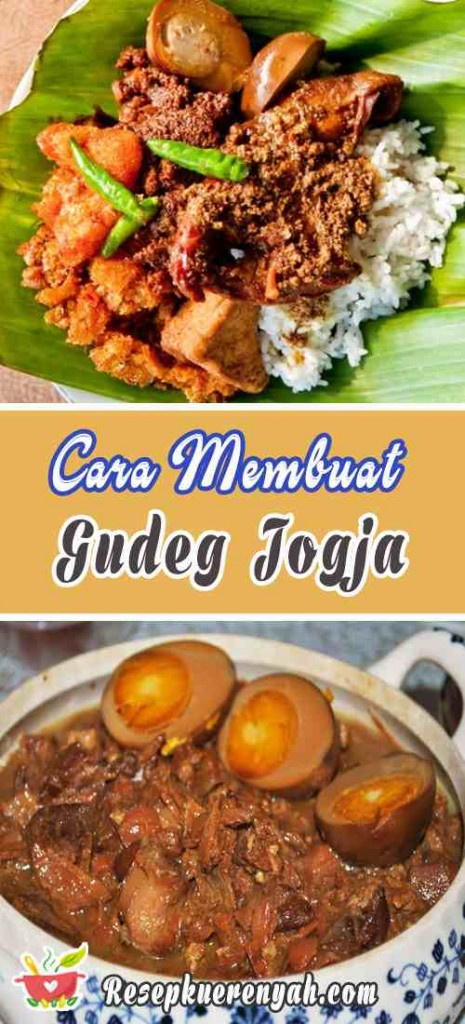gudeg: (32, 1, 456, 398)
